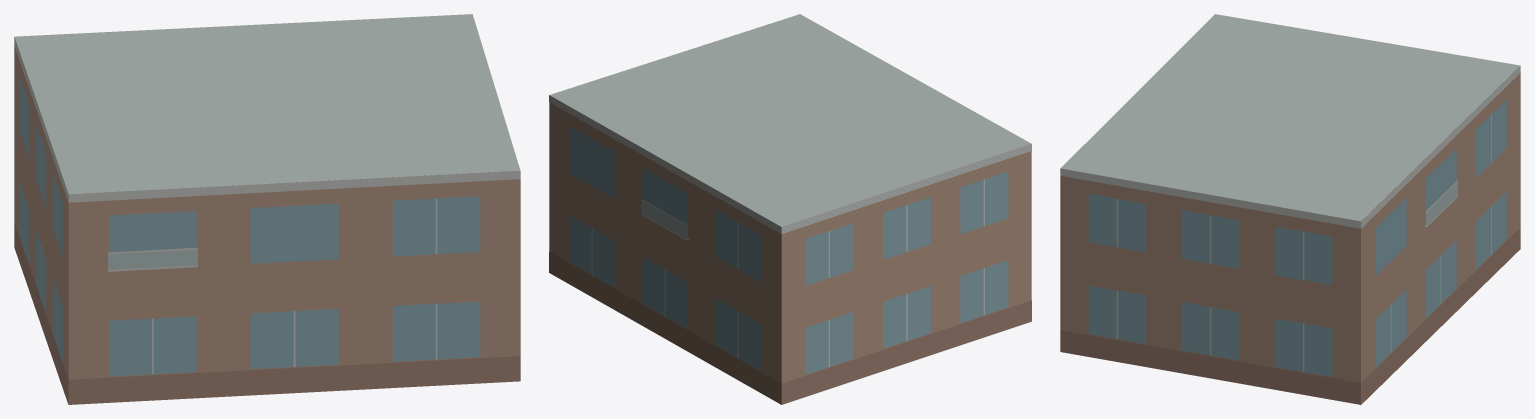
The model's file is survey-upis-32656829.glb.
3 renders of one model, left to right at view 1: azimuth 30°, elevation 25°; view 2: azimuth 150°, elevation 25°; view 3: azimuth 270°, elevation 25°, orthographic. The views are drawn at different scales.
Parts seen in each view (by area): view 1: survey-upis-32656829.tmp; view 2: survey-upis-32656829.tmp; view 3: survey-upis-32656829.tmp.
Part boxes in pixels (<box>): survey-upis-32656829.tmp: <box>14,14,520,404</box>; survey-upis-32656829.tmp: <box>549,14,1031,404</box>; survey-upis-32656829.tmp: <box>1060,14,1520,404</box>.
Size of the model in its own units: 14.8 by 6.1 by 13.88.
